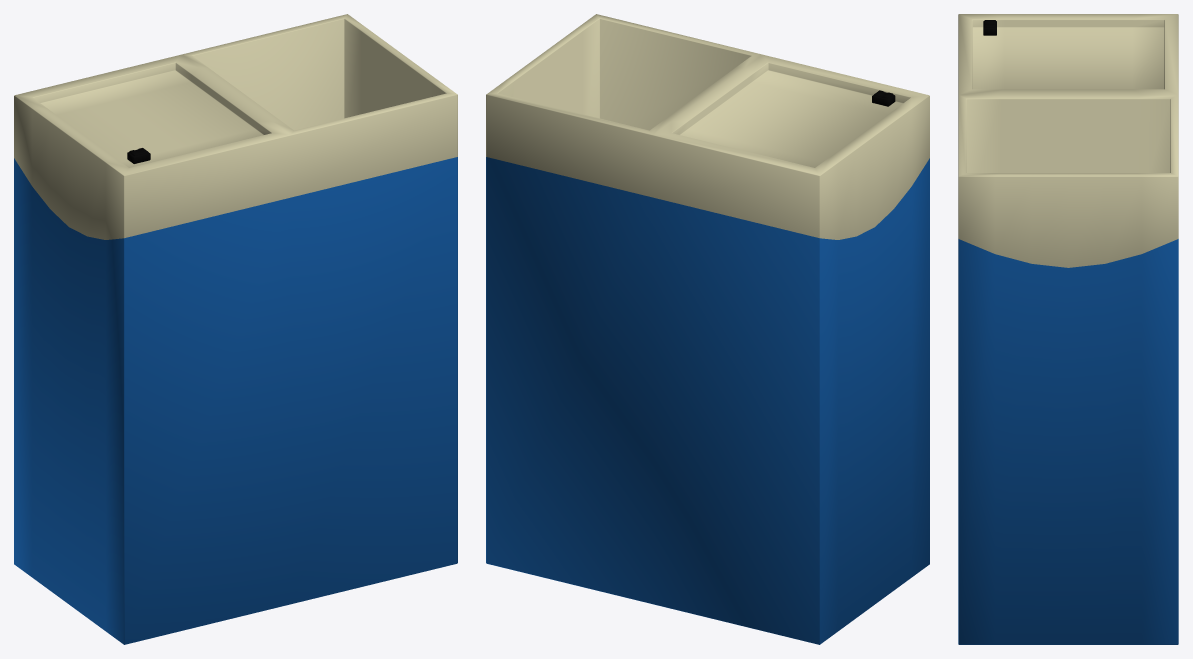
3 views of the same model, side by side, from view 1: azimuth 30°, elevation 25°; view 2: azimuth 150°, elevation 25°; view 3: azimuth 270°, elevation 25° (orthographic).
Parts seen in each view (by area): view 1: Cube.001; view 2: Cube.001; view 3: Cube.001.
Part boxes in pixels (bbox=[...]): Cube.001: bbox=[14, 14, 457, 644]; Cube.001: bbox=[486, 14, 929, 644]; Cube.001: bbox=[958, 14, 1178, 644].
Bounding box in the file's own units: 35 × 47.55 × 20.
